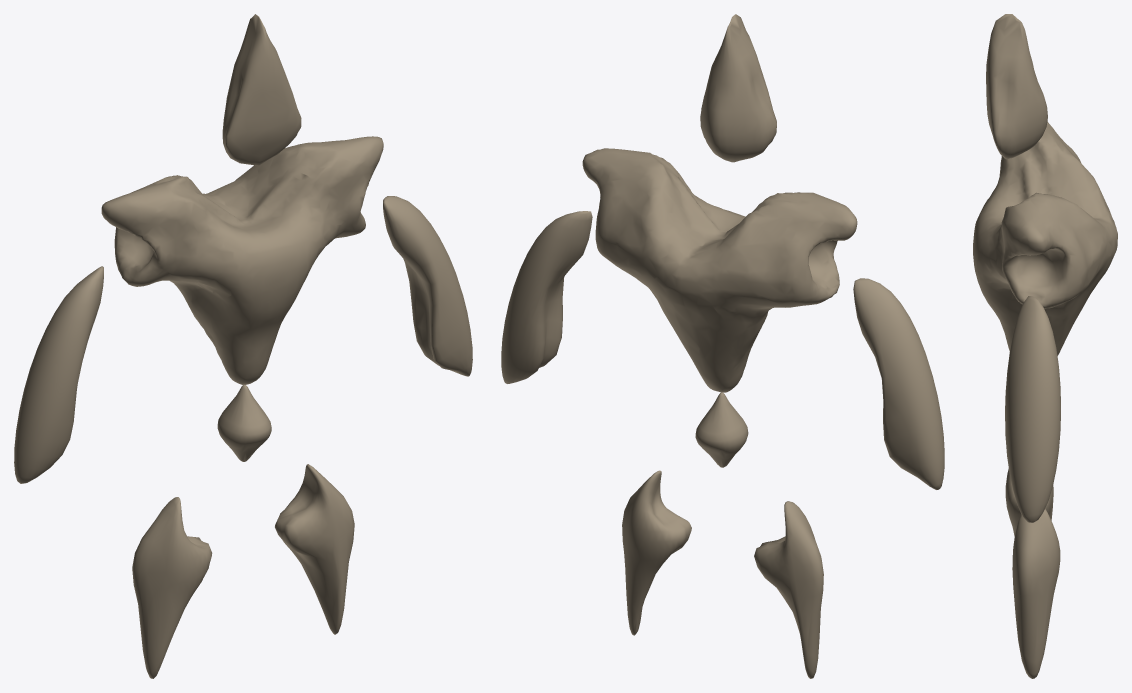
File: gem_knight.glb
The picture shows the model from 3 angles, left to right: view 1: azimuth 30°, elevation 25°; view 2: azimuth 150°, elevation 25°; view 3: azimuth 270°, elevation 25°; orthographic projection. The views are drawn at different scales.
Visible parts, largest first — view 1: gem_knight; view 2: gem_knight; view 3: gem_knight.
Boxes of the visible parts, x1,y1,x2,y2 form: gem_knight: (14, 14, 472, 678); gem_knight: (501, 14, 944, 678); gem_knight: (973, 14, 1117, 678).
Bounding box in the file's own units: 1.31 × 1.8 × 0.3791.
